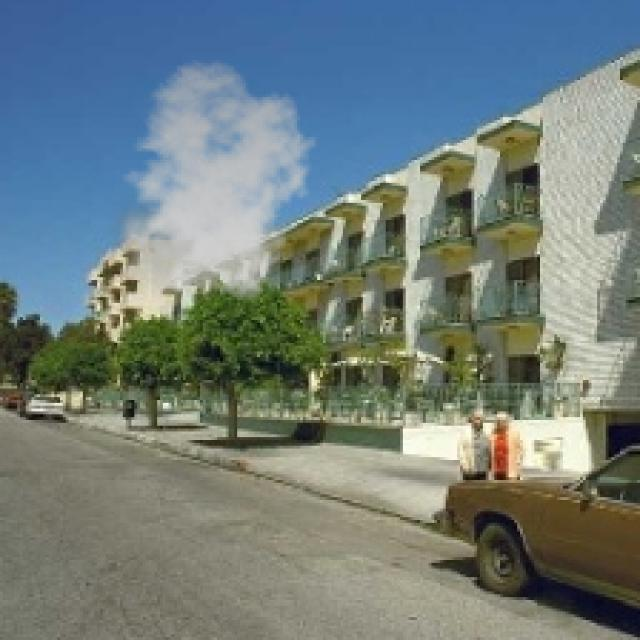Smoke: (109, 60, 318, 309)
